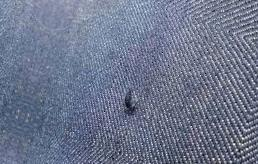knot: (121, 87, 143, 116)
